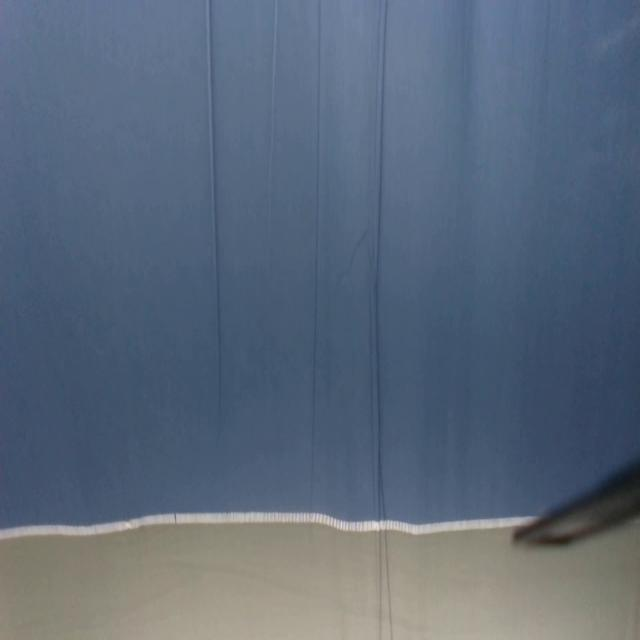crease: (372, 0, 395, 640), (204, 0, 228, 415), (307, 0, 326, 510), (268, 1, 280, 208)
